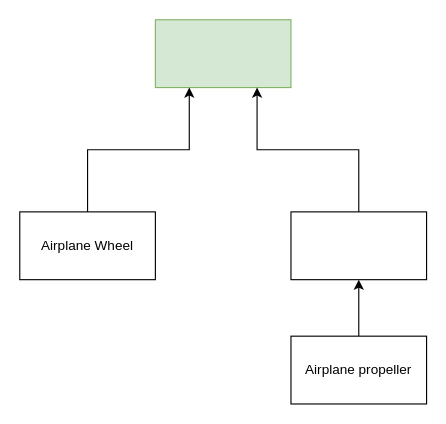
The diagram is 446 pixels wide and 424 high, and some of its shapes have lost their labels. The shapes that lost their labels are listed below. From the top down, each one's box as (x1, y1, x2, y2) in pixels, then its label:
(154, 19, 291, 88): Airplane Controller
(290, 211, 427, 280): Airplane Engine
